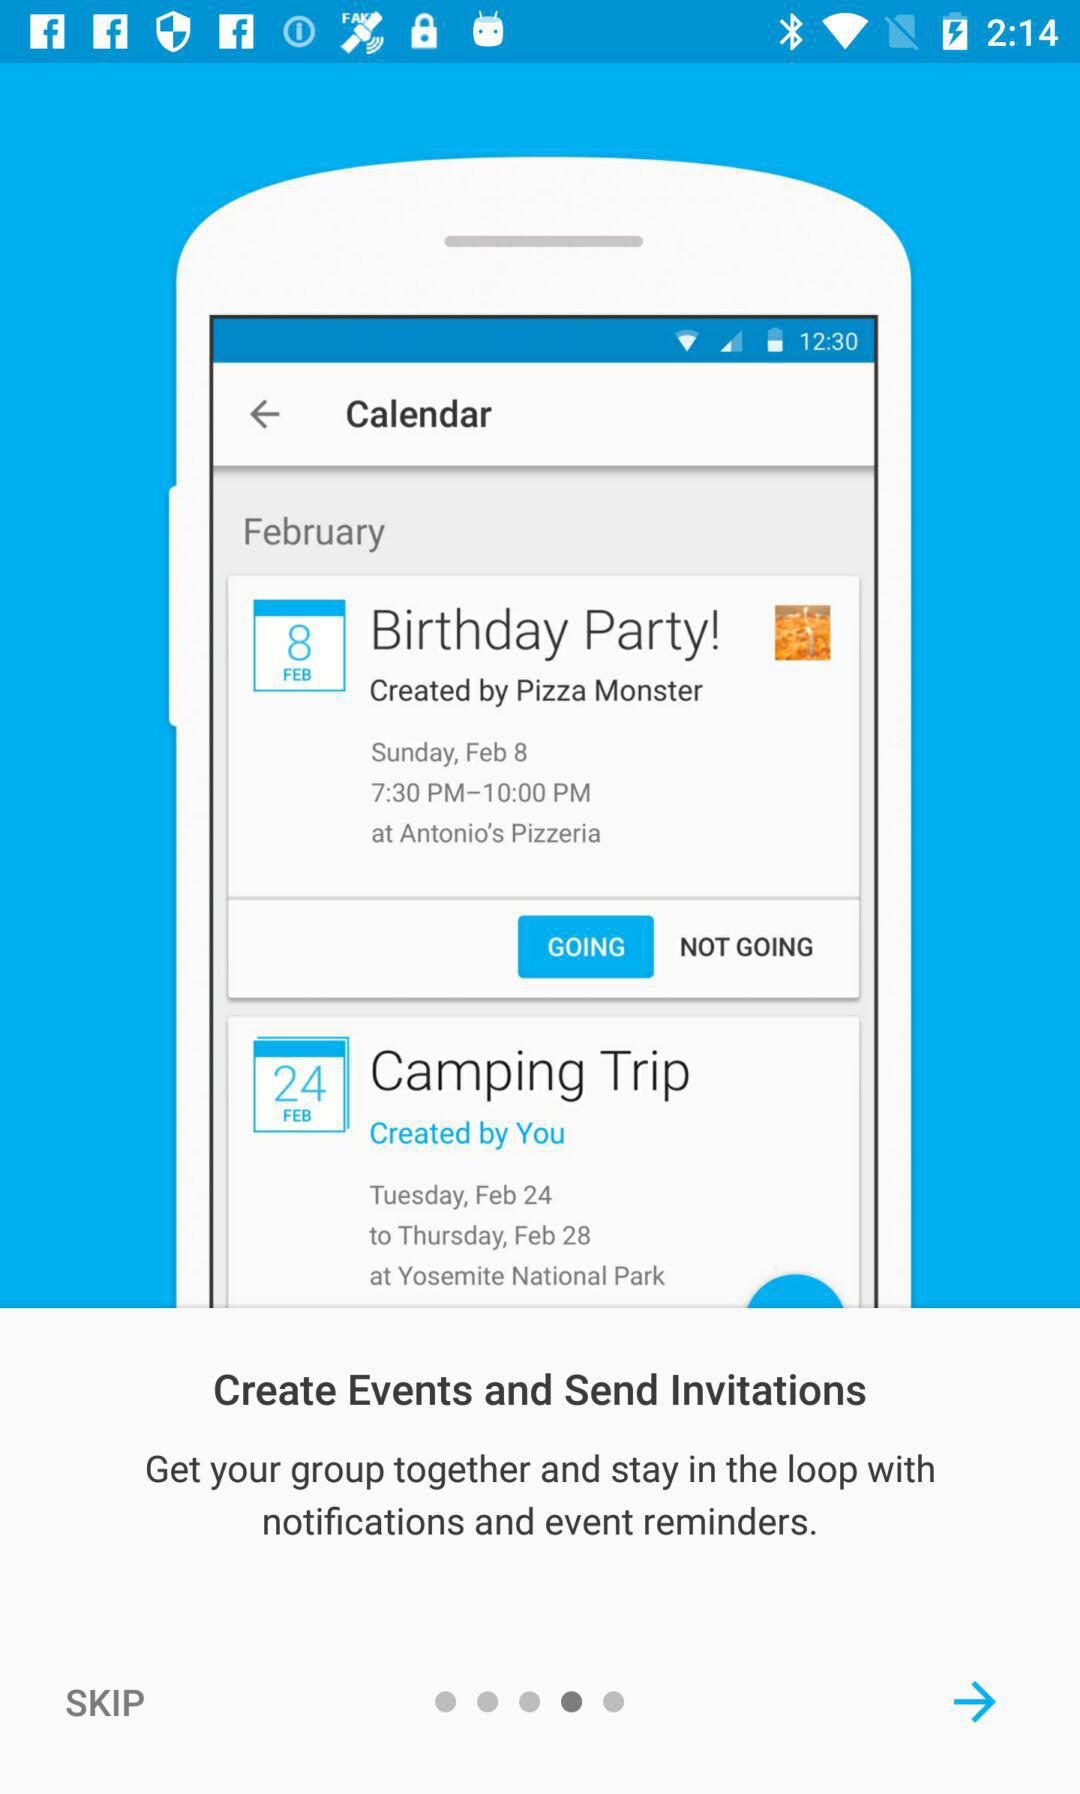Icon: (952, 1680, 997, 1724)
Image: (168, 155, 913, 1310)
PageIndicator: (434, 1690, 626, 1715)
Text: (147, 1453, 935, 1536), (215, 1372, 866, 1410), (67, 1689, 146, 1717)
UpperTaskBar: (1, 1, 1080, 64)
